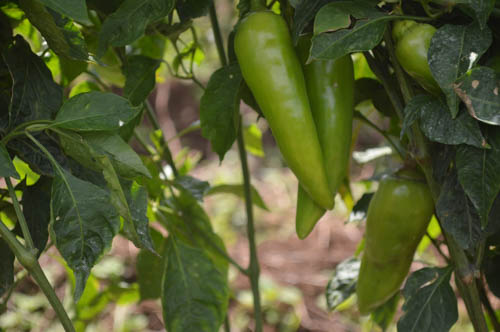ChiliPepper: (242, 12, 335, 210), (291, 36, 355, 243), (353, 179, 434, 316), (396, 26, 445, 90)
